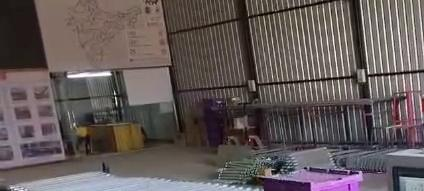box: (261, 168, 361, 190)
